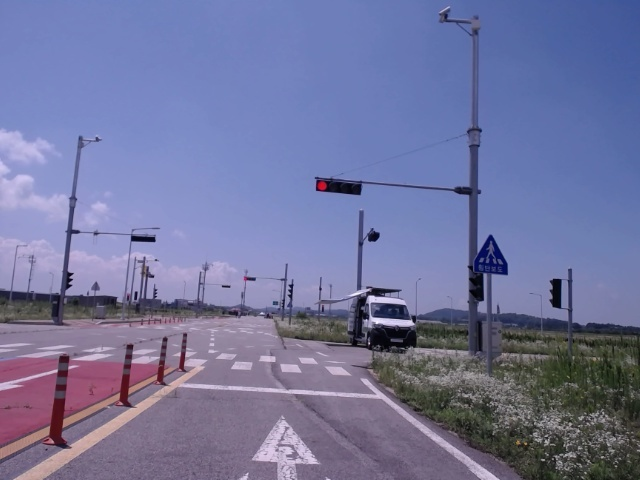red_4: (316, 179, 361, 196)
